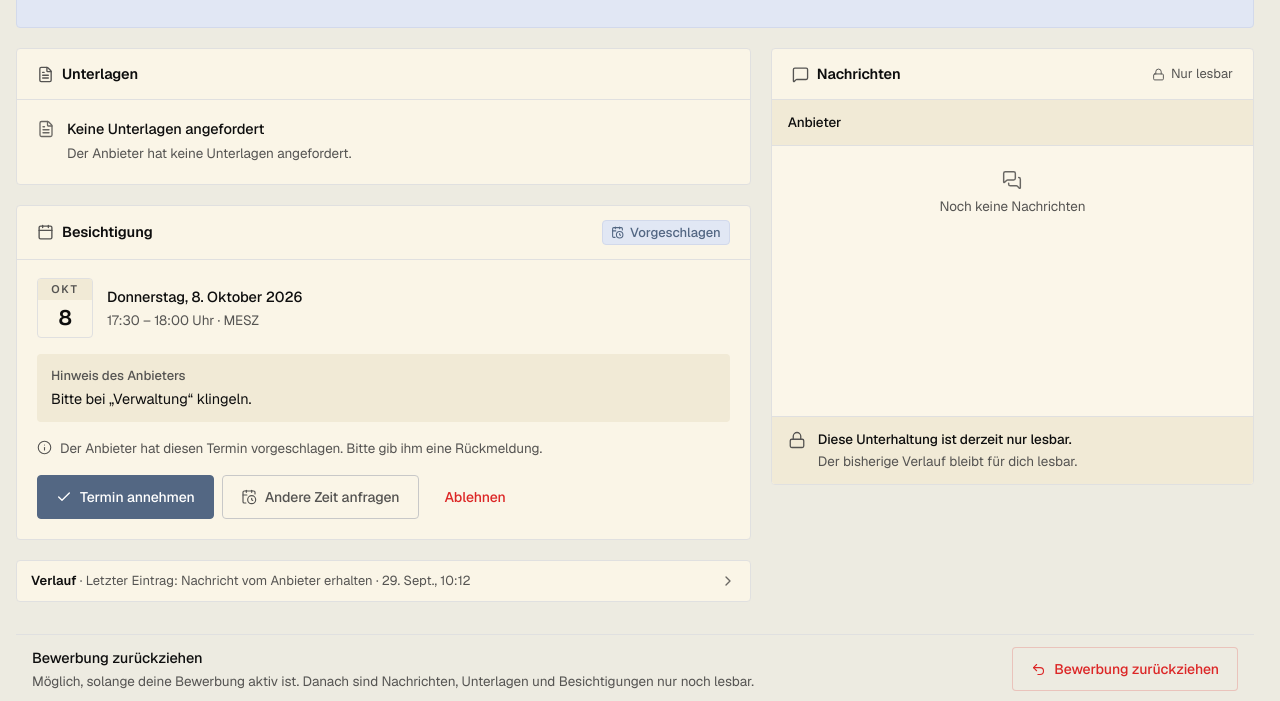
it: ApplicationWorkspace history › drops an activity page that belongs to an outdated workspace snapshot
The image size is (1280, 701).
(page scrolled)
Step 1. Click the button "Letzter Eintrag" → (383, 581), box top-left (17, 561), bottom-right (750, 601)
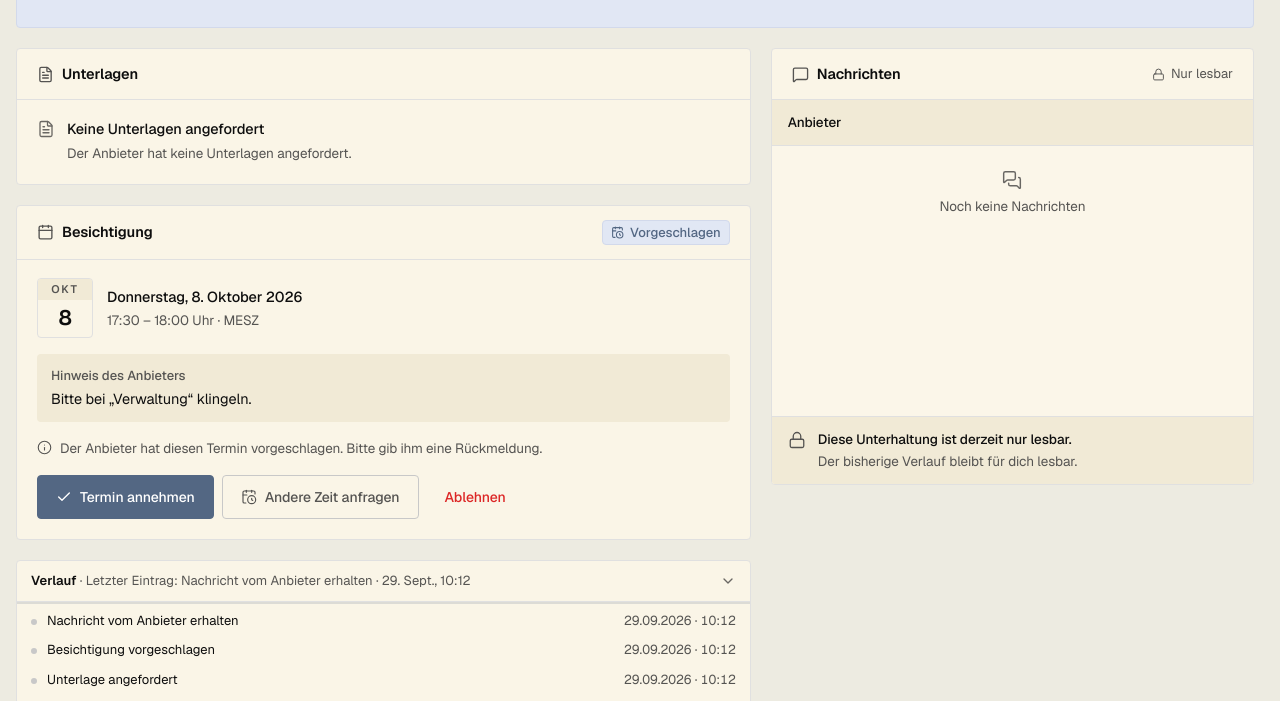
Step 2. Click the button "Termin annehmen" → (125, 497), box top-left (37, 475), bottom-right (214, 519)
(page scrolled)
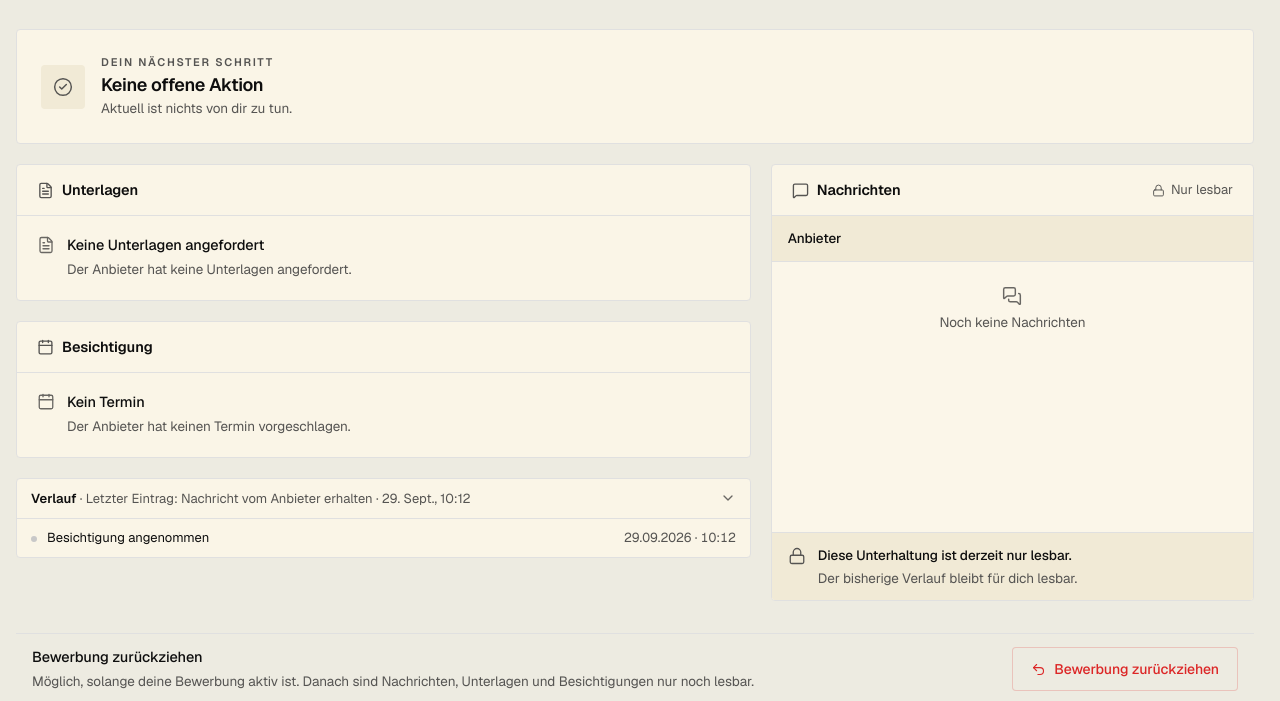
Expected: the button "Letzter Eintrag" is expanded, top-left (17, 479), bottom-right (750, 518)
Expected: the text "Besichtigung angenommen" is shown, top-left (47, 529), bottom-right (209, 546)
Expected: the button "Termin annehmen" is gone
